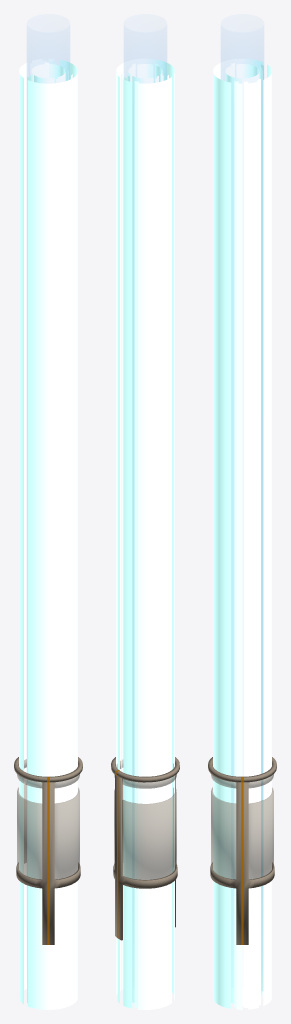
File: beam.glb
3 views of the same model, side by side, from view 1: azimuth 90°, elevation 25°; view 2: azimuth 210°, elevation 25°; view 3: azimuth 270°, elevation 25° (orthographic).
Parts seen in each view (by area): view 1: beam, frame, beam_static; view 2: beam, frame, beam_static; view 3: beam, frame, beam_static.
Part boxes in pixels (x1,y1,x2,y2): beam: (19, 58, 77, 1009); frame: (14, 757, 82, 944); beam_static: (27, 33, 69, 80); beam: (116, 58, 174, 1009); frame: (111, 757, 179, 940); beam_static: (124, 33, 166, 82); beam: (213, 58, 271, 1009); frame: (208, 757, 276, 944); beam_static: (221, 33, 263, 893).
Size of what is drawn, in the model's own units: 6.86 by 108 by 6.89.
5 materials, 5 textured.
